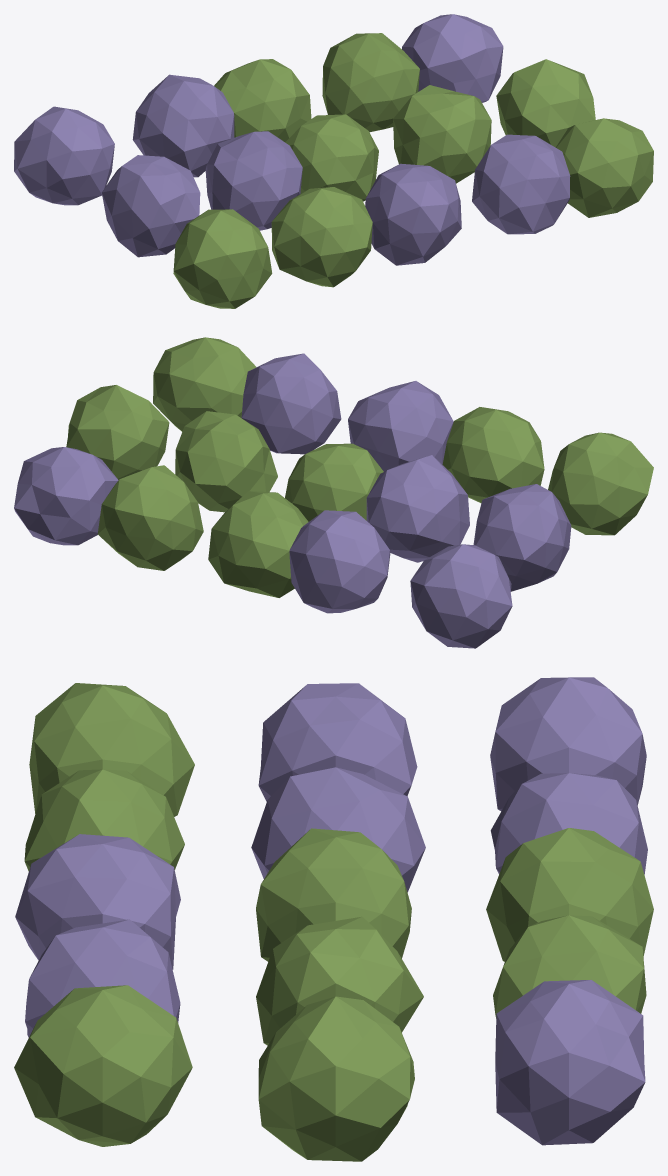
Rendered from lavanta.glb.
The picture shows the model from 3 angles, top to bottom: view 1: azimuth 30°, elevation 25°; view 2: azimuth 150°, elevation 25°; view 3: azimuth 270°, elevation 25°; orthographic projection. The views are drawn at different scales.
Parts seen in each view (by area): view 1: yaprak3, lavanta; view 2: yaprak3, lavanta; view 3: yaprak3, lavanta.
Boxes of the visible parts, box(x1,y1,x2,y2) form: yaprak3: box(173, 33, 653, 308); lavanta: box(14, 14, 570, 265); yaprak3: box(66, 337, 653, 597); lavanta: box(14, 353, 571, 648); yaprak3: box(14, 683, 653, 1161); lavanta: box(15, 677, 647, 1145).
Bounding box in the file's own units: 3.63 × 0.7041 × 2.47.
